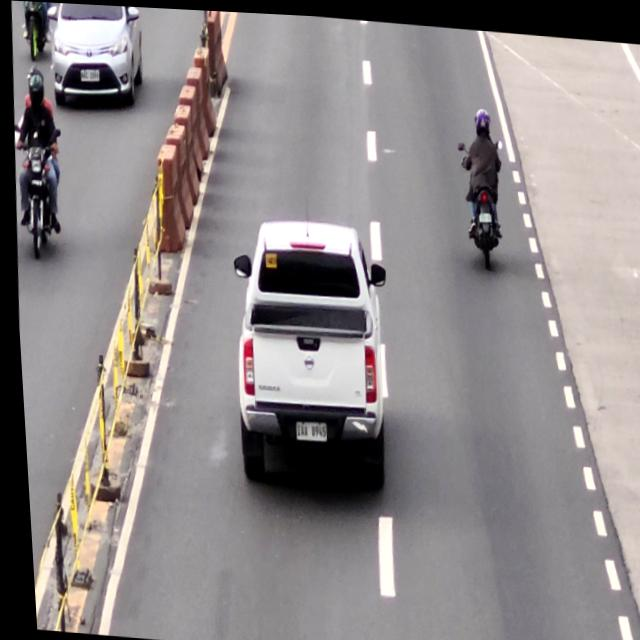Car: (220, 209, 394, 493)
License-Plate: (289, 417, 323, 439), (474, 205, 491, 219)
Motorcycle: (453, 130, 506, 262)
